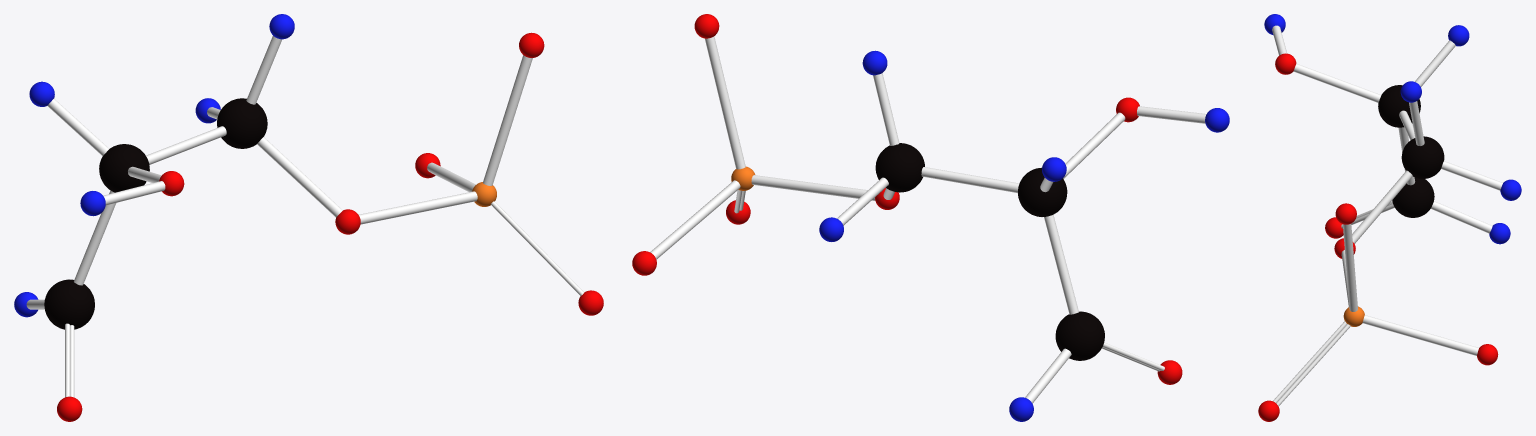
File: glyceraldehyde 3-phosphate_color.fbx
3 renders of one model, left to right at view 1: azimuth 30°, elevation 25°; view 2: azimuth 150°, elevation 25°; view 3: azimuth 270°, elevation 25°, orthographic. The views are drawn at different scales.
Parts seen in each view (by area): view 1: Atom6_Clone___2_, Atom6_Clone_, Atom6_Clone___1_, Bond1_Clone___2_, Bond1_Clone_, Bond1_Clone___3_, Bond1_Clone___11_, Bond1_Clone___8_, Bond1_Clone___12_, Bond1_Clone___10_, Bond2B, Bond1_Clone___5_ (+1 smaller); view 2: Atom6_Clone___2_, Atom6_Clone_, Atom6_Clone___1_, Bond1_Clone___2_, Bond1_Clone_, Bond1_Clone___1_, Bond1_Clone___11_, Bond1_Clone___8_, Bond1_Clone___4_, Bond1_Clone___10_, Bond1_Clone___5_, Bond1_Clone___13_ (+1 smaller); view 3: Atom6_Clone_, Atom6_Clone___2_, Bond1_Clone___1_, Atom6_Clone___1_, Bond1_Clone___4_, Bond1_Clone___2_, Bond1_Clone___3_, Bond1_Clone___13_, Bond1_Clone___9_, Bond2A, Bond1_Clone___12_, Bond2B (+13 smaller).
Boxes of the visible parts, bbox=[...] form: Atom6_Clone___2_: bbox=[44, 279, 94, 329]; Atom6_Clone_: bbox=[217, 98, 267, 148]; Atom6_Clone___1_: bbox=[99, 144, 149, 192]; Bond1_Clone___2_: bbox=[483, 55, 532, 185]; Bond1_Clone_: bbox=[359, 191, 477, 224]; Bond1_Clone___3_: bbox=[257, 137, 342, 217]; Bond1_Clone___11_: bbox=[74, 190, 116, 285]; Bond1_Clone___8_: bbox=[146, 126, 226, 164]; Bond1_Clone___12_: bbox=[47, 98, 109, 156]; Bond1_Clone___10_: bbox=[246, 36, 282, 104]; Bond2B: bbox=[491, 201, 583, 295]; Bond1_Clone___5_: bbox=[103, 181, 165, 205]; Atom6_Clone___2_: bbox=[1055, 311, 1104, 360]; Atom6_Clone_: bbox=[875, 143, 924, 192]; Atom6_Clone___1_: bbox=[1018, 167, 1067, 216]; Bond1_Clone___2_: bbox=[705, 36, 745, 169]; Bond1_Clone_: bbox=[751, 175, 875, 200]; Bond1_Clone___1_: bbox=[650, 180, 740, 259]; Bond1_Clone___11_: bbox=[1044, 214, 1078, 314]; Bond1_Clone___8_: bbox=[921, 167, 1019, 192]; Bond1_Clone___4_: bbox=[1063, 112, 1125, 178]; Bond1_Clone___10_: bbox=[873, 73, 899, 145]; Bond1_Clone___5_: bbox=[1137, 106, 1206, 123]; Bond1_Clone___13_: bbox=[1025, 348, 1071, 403]; Atom6_Clone_: bbox=[1401, 136, 1444, 178]; Atom6_Clone___2_: bbox=[1392, 177, 1434, 217]; Bond1_Clone___1_: bbox=[1362, 315, 1478, 355]; Atom6_Clone___1_: bbox=[1378, 85, 1420, 127]; Bond1_Clone___4_: bbox=[1293, 63, 1381, 102]; Bond1_Clone___2_: bbox=[1342, 224, 1357, 311]; Bond1_Clone___3_: bbox=[1352, 170, 1412, 243]; Bond1_Clone___13_: bbox=[1430, 201, 1492, 233]; Bond1_Clone___9_: bbox=[1441, 161, 1502, 190]; Bond2A: bbox=[1276, 324, 1350, 406]; Bond1_Clone___12_: bbox=[1415, 40, 1455, 86]; Bond2B: bbox=[1273, 321, 1346, 402].
Bounding box in the file's own units: 586 × 336 × 307.
